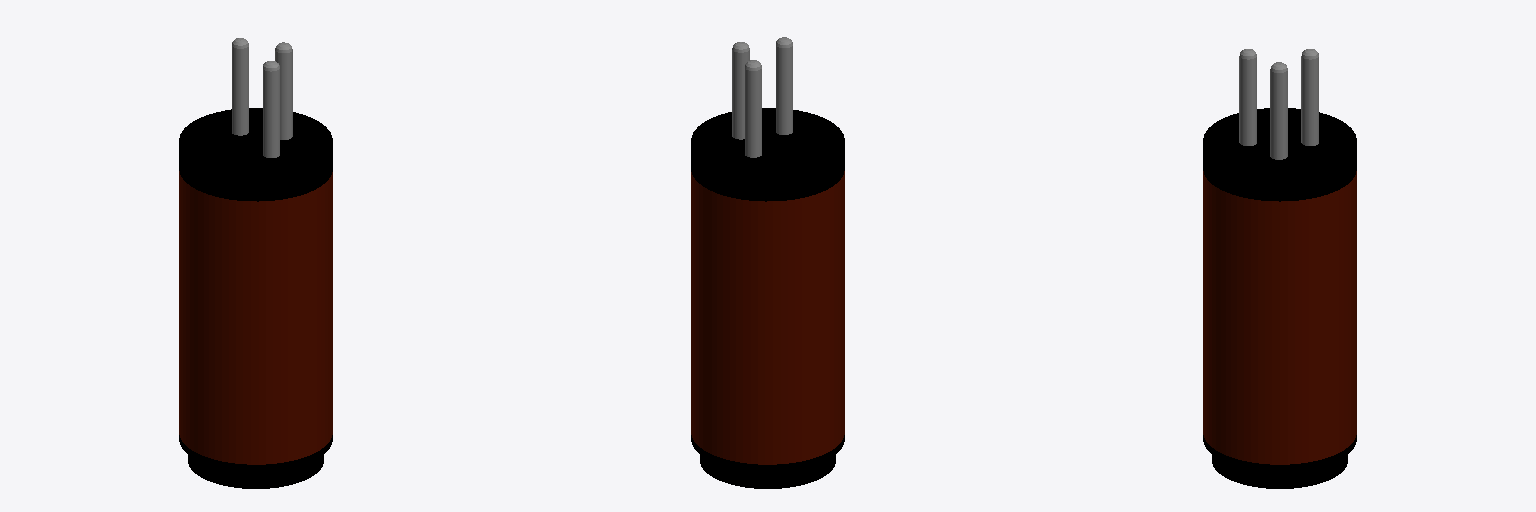
File: mikrofon_with_textures.obj
3 renders of one model, left to right at view 1: azimuth 30°, elevation 25°; view 2: azimuth 150°, elevation 25°; view 3: azimuth 270°, elevation 25°, orthographic.
Visible parts, largest first — view 1: Cylinder.001; view 2: Cylinder.001; view 3: Cylinder.001.
Part boxes in pixels (bbox=[...]): Cylinder.001: bbox=[179, 38, 332, 488]; Cylinder.001: bbox=[691, 37, 844, 488]; Cylinder.001: bbox=[1203, 49, 1356, 488].
Bounding box in the file's own units: 0.02 × 0.0591 × 0.02.